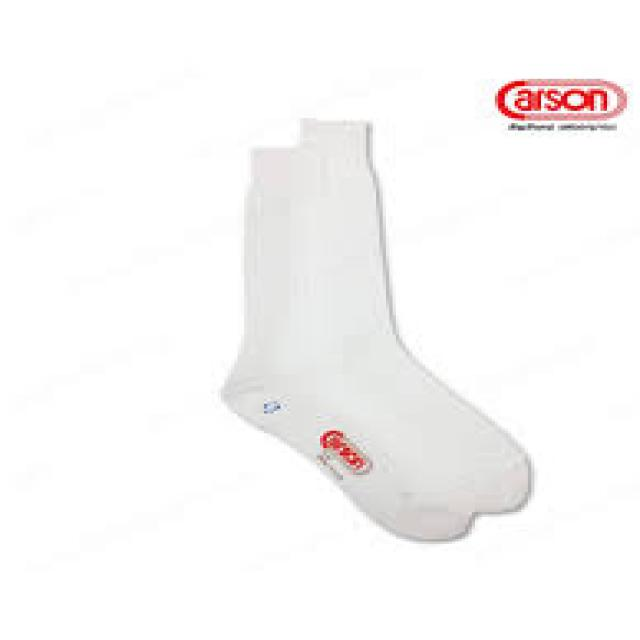sock: (218, 116, 534, 542)
